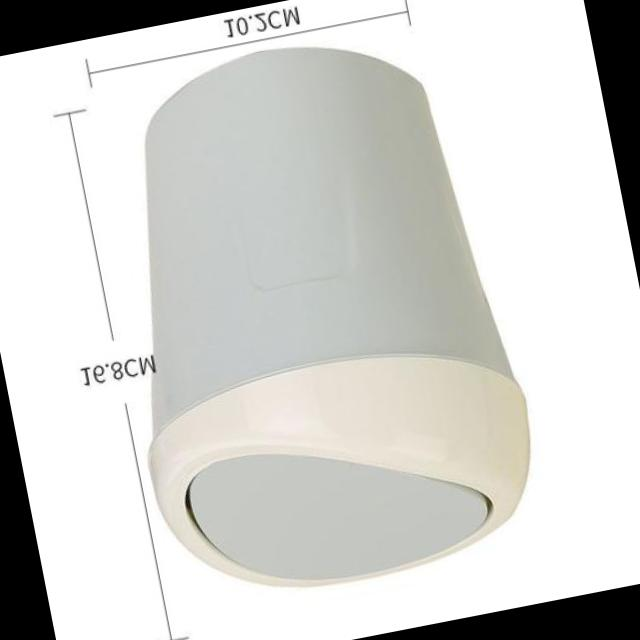dustbin: (68, 12, 550, 626)
